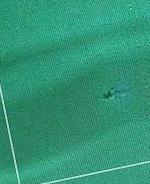knot: (98, 84, 125, 105)
